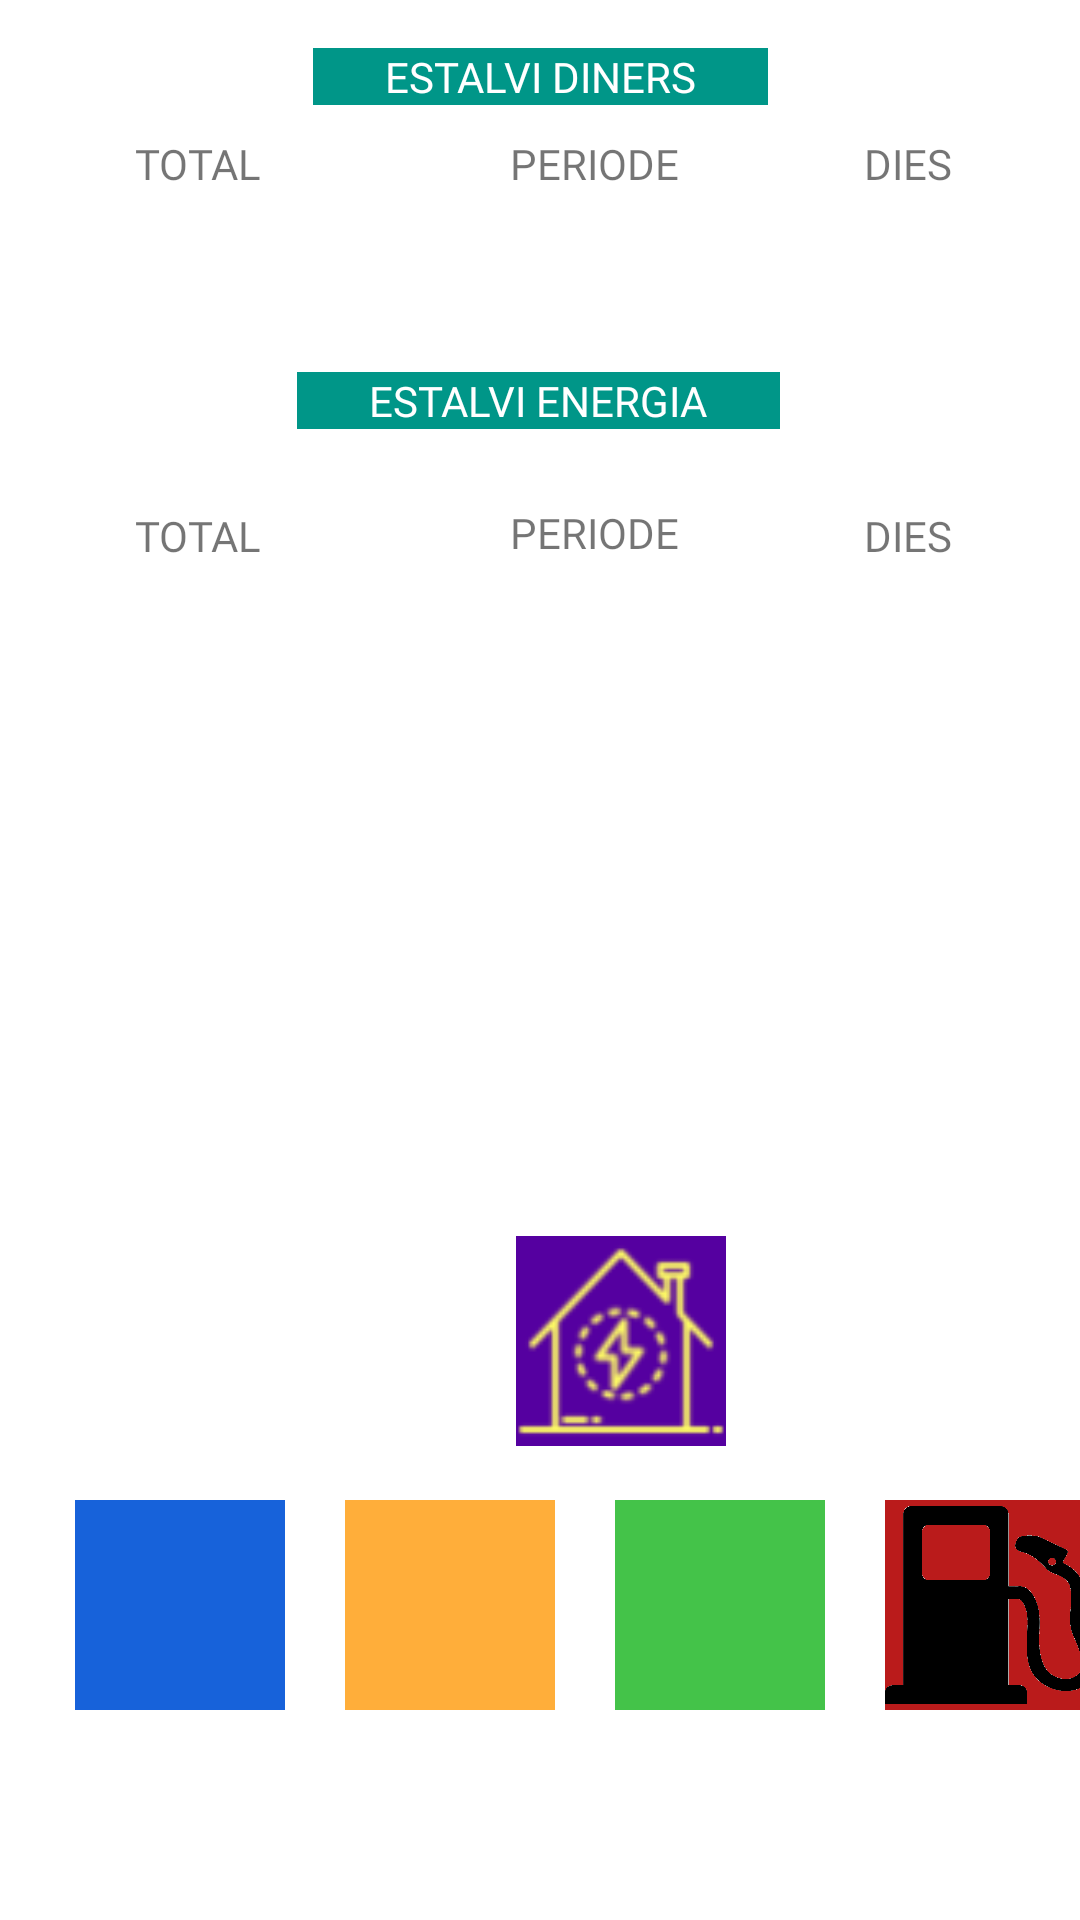

Where to tap for icons on this 1080×1920 app screen, as (x=x, y=y):
Gasoil: (x=982, y=1605)
